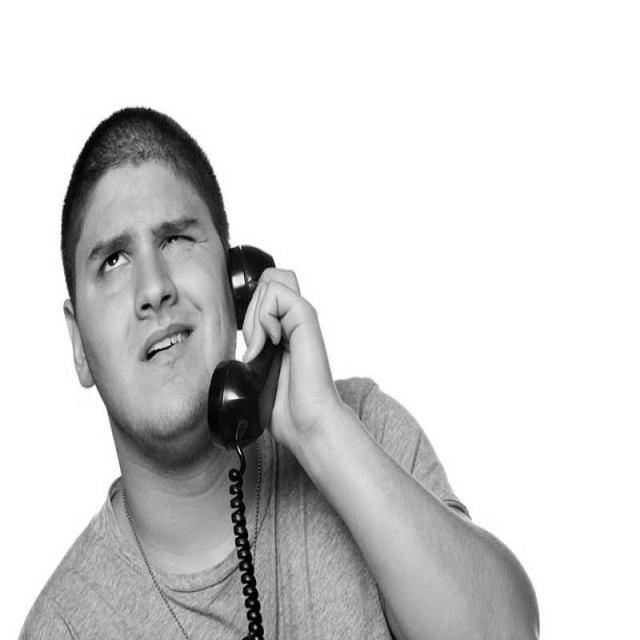phone: (147, 191, 314, 477)
